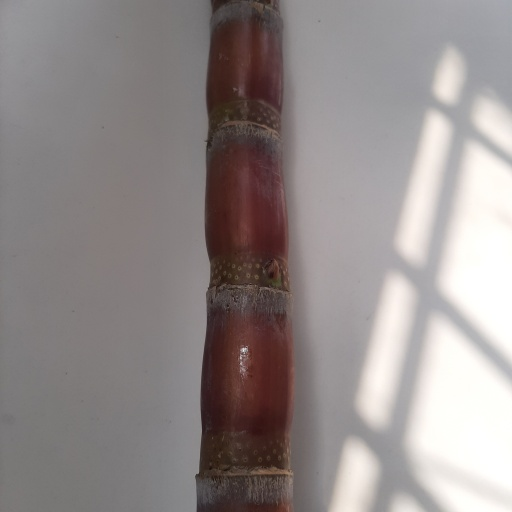Bud: (263, 255, 282, 283)
